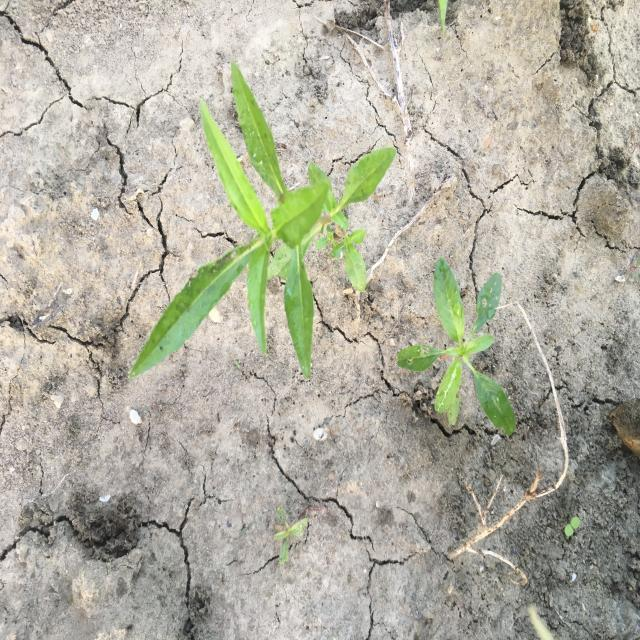Eclipta: (128, 59, 398, 380)
Waterhemp: (395, 256, 518, 438)
